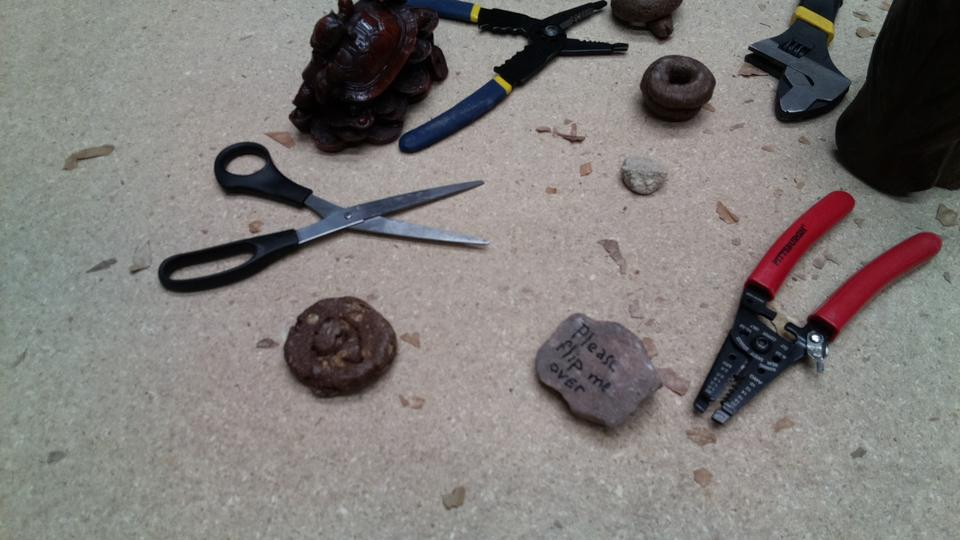poop: (282, 293, 405, 402), (638, 53, 719, 125), (609, 1, 689, 42)
